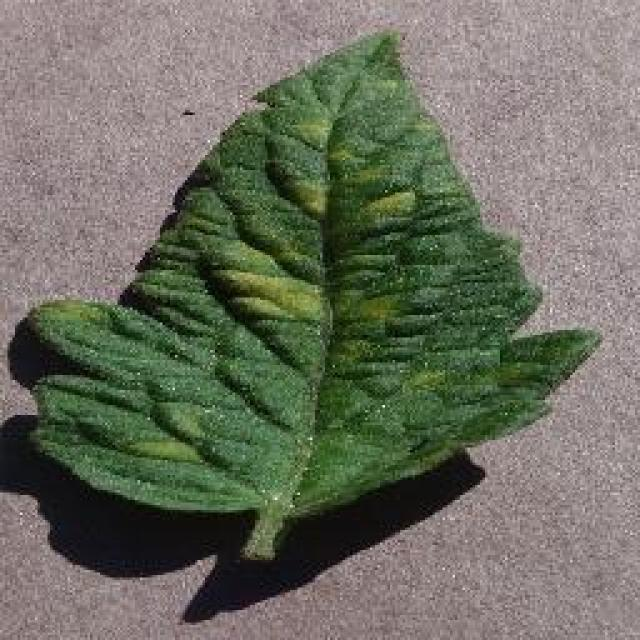Tomato___Leaf_Mold: (28, 32, 598, 558)
